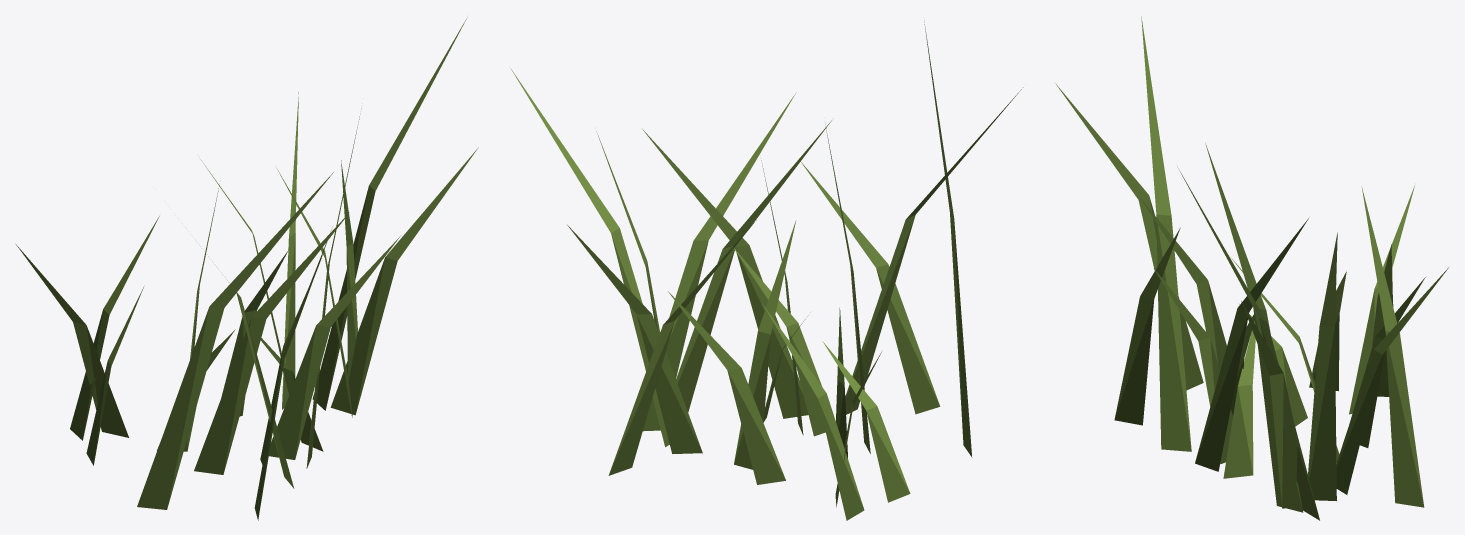
Rendered from grass.glb.
3 views of the same model, side by side, from view 1: azimuth 30°, elevation 25°; view 2: azimuth 150°, elevation 25°; view 3: azimuth 270°, elevation 25° (orthographic).
Bounding box in the file's own units: 0.7852 × 0.6428 × 0.6389.
